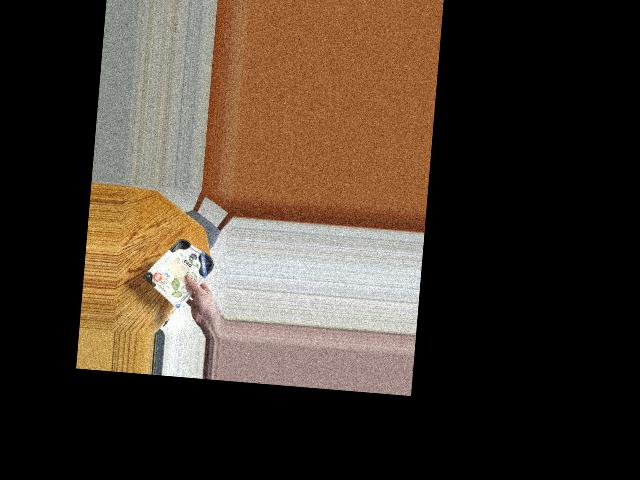cheese: (147, 236, 217, 300)
